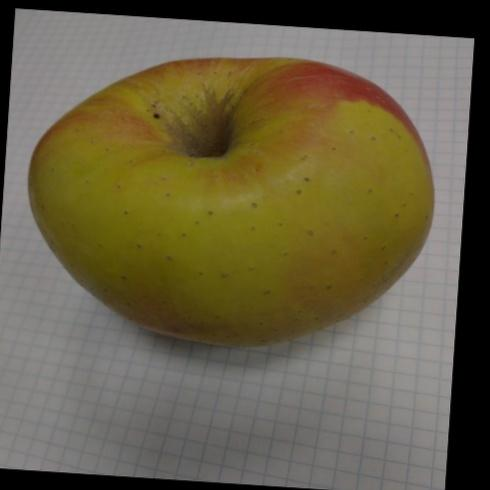green apple: (36, 53, 440, 360)
